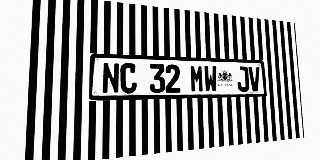2: (165, 64, 180, 93)
3: (149, 64, 165, 93)
C: (120, 63, 137, 94)
J: (236, 66, 249, 92)
M: (190, 65, 204, 92)
N: (102, 62, 120, 94)
V: (248, 67, 261, 91)
W: (204, 65, 218, 92)
